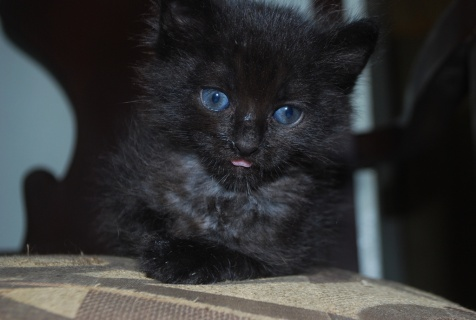Cat: (71, 0, 393, 285)
